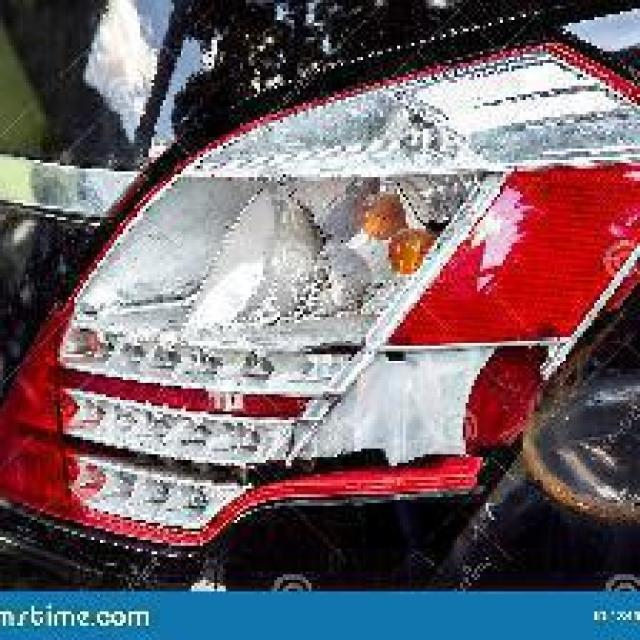damaged: (62, 91, 638, 526)
